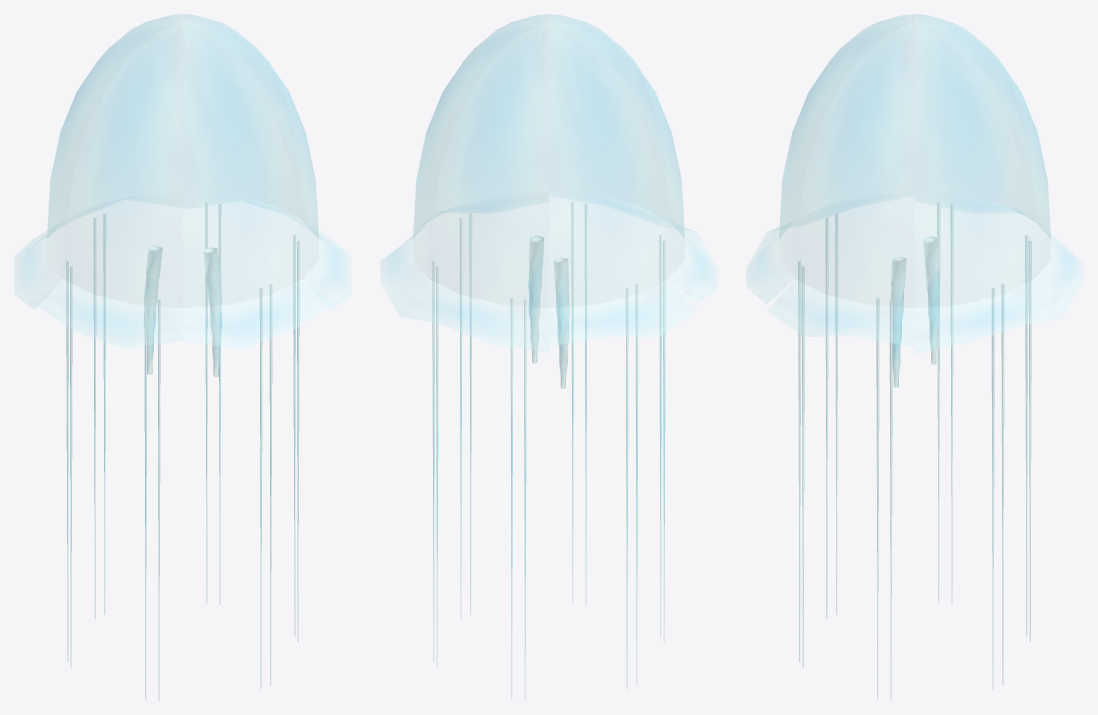
Rendered from alien_glass_squid.glb.
The picture shows the model from 3 angles, left to right: view 1: azimuth 30°, elevation 25°; view 2: azimuth 150°, elevation 25°; view 3: azimuth 270°, elevation 25°; orthographic projection.
Bounding box in the file's own units: 0.62 × 1.26 × 0.6106.
Materials: 2 (2 with a texture image).
